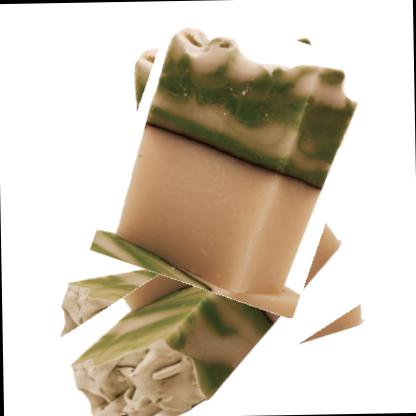soap: (105, 9, 363, 307), (47, 212, 378, 415)
